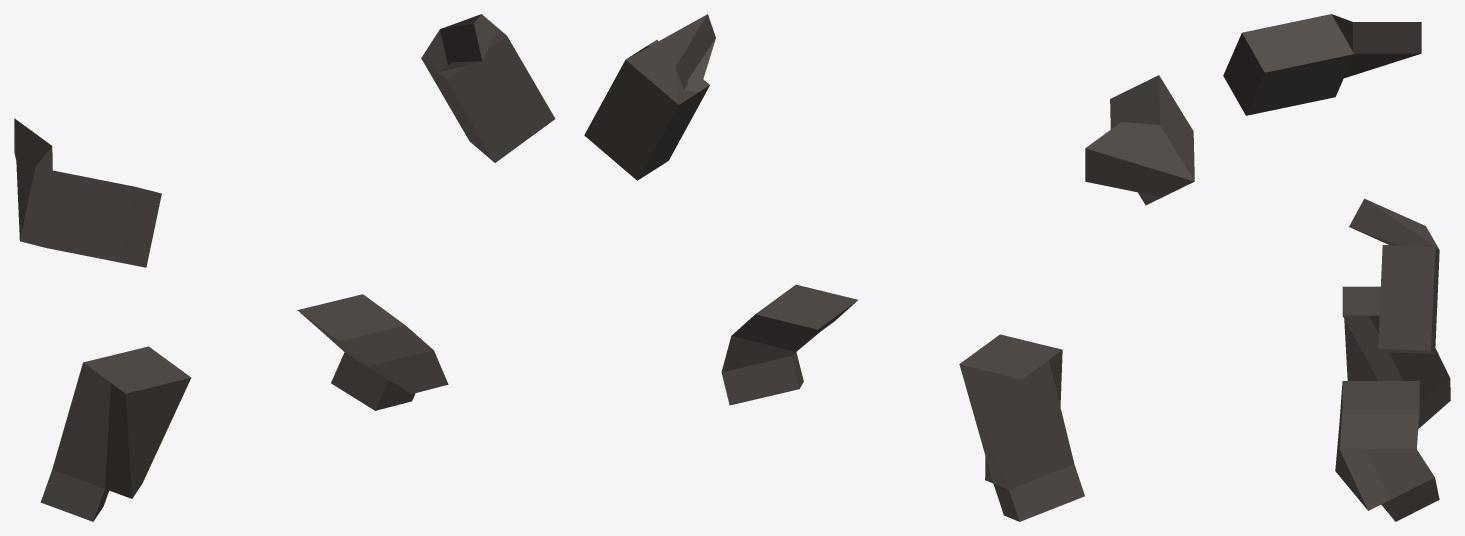
Rendered from Meta_limbs03.glb.
The picture shows the model from 3 angles, left to right: view 1: azimuth 30°, elevation 25°; view 2: azimuth 150°, elevation 25°; view 3: azimuth 270°, elevation 25°; orthographic projection. The views are drawn at different scales.
Visible parts, largest first — view 1: metaboy_default_detail_rounded.002; view 2: metaboy_default_detail_rounded.002; view 3: metaboy_default_detail_rounded.002.
Boxes of the visible parts, x1,y1,x2,y2 form: metaboy_default_detail_rounded.002: (14,14,555,521); metaboy_default_detail_rounded.002: (584,14,1194,521); metaboy_default_detail_rounded.002: (1223,14,1450,521).
Size of the model in its own units: 3.49 by 2.44 by 1.32.
Materials: 1 (1 with a texture image).
